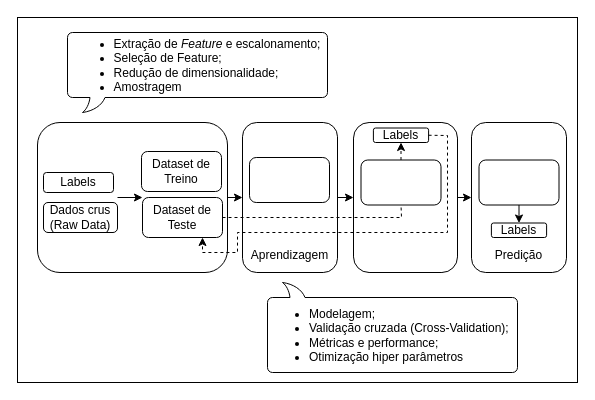
Image size: 595x400. Some labels were removed from this diagram. The shapes that lost their labels are listed below. From the top down, each one's box as (x1, y1, x2, y2) in pixels, then its label:
(36, 122, 228, 272): Pré-processamento
(248, 156, 330, 202): Algoritmo de Machine Learning
(360, 159, 441, 205): Modelo final
(352, 122, 458, 272): Avaliação
(478, 159, 559, 205): Novos dados
